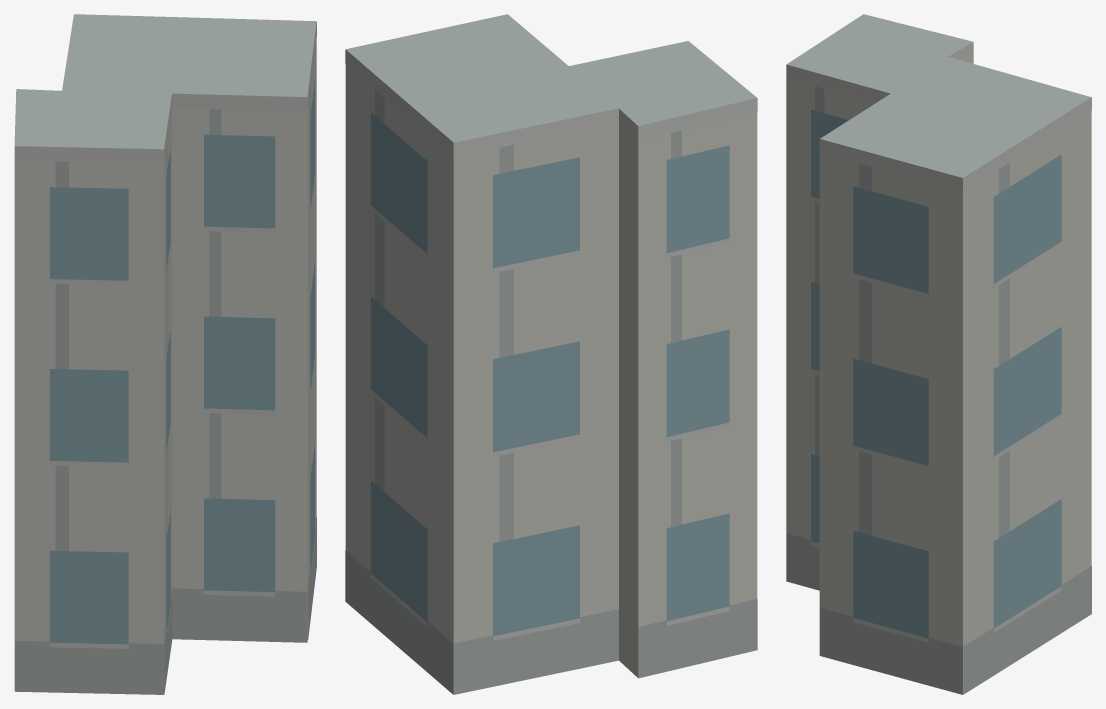
File: survey-upis-32821692.glb
3 views of the same model, side by side, from view 1: azimuth 30°, elevation 25°; view 2: azimuth 150°, elevation 25°; view 3: azimuth 270°, elevation 25° (orthographic). The views are drawn at different scales.
Visible parts, largest first — view 1: survey-upis-32821692.tmp; view 2: survey-upis-32821692.tmp; view 3: survey-upis-32821692.tmp.
Boxes of the visible parts, bbox=[...] form: survey-upis-32821692.tmp: bbox=[14, 14, 316, 694]; survey-upis-32821692.tmp: bbox=[345, 14, 757, 694]; survey-upis-32821692.tmp: bbox=[786, 14, 1091, 694].
Size of the model in its own units: 6.23 by 9.15 by 4.91.
